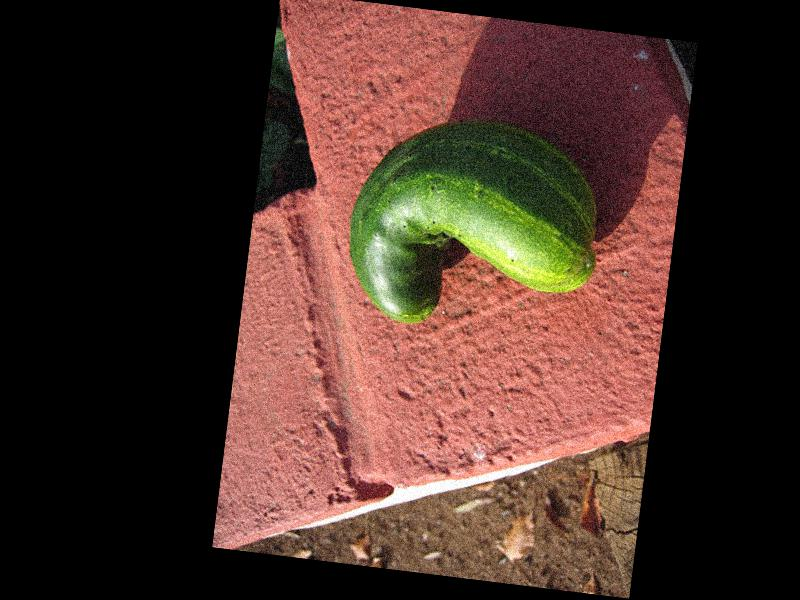Cucumber: (339, 107, 609, 347)
